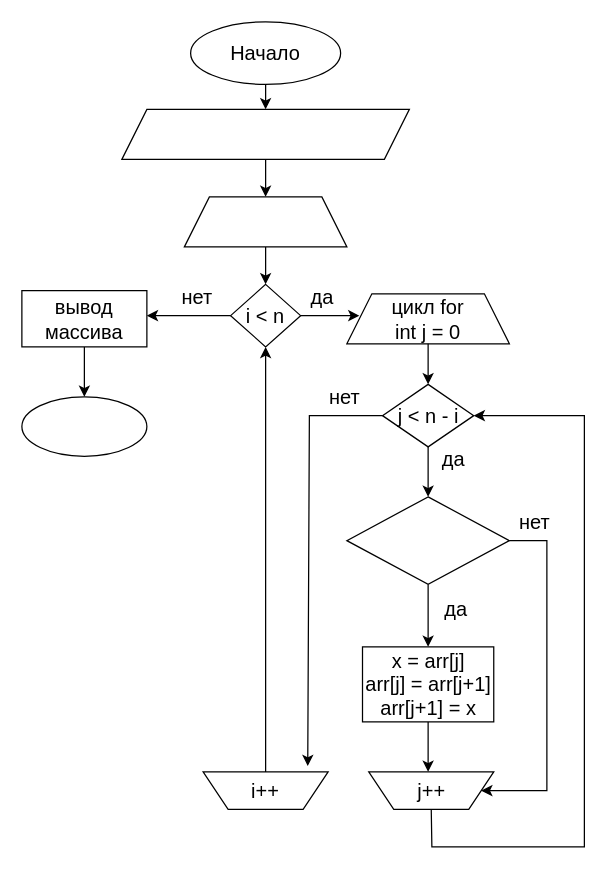
This 616x879 diagram has some shape labels left out. The shapes that lost their labels are listed below. From the top down, each one's centre as x and y in pixels, then its label:
[265,133]: int[] arr = new int[arr.lenght] n = arr.lenght-1
[265,221]: цикл for int i = 0
[84,426]: конец
[427,540]: arr[j] > arr[j+1]
